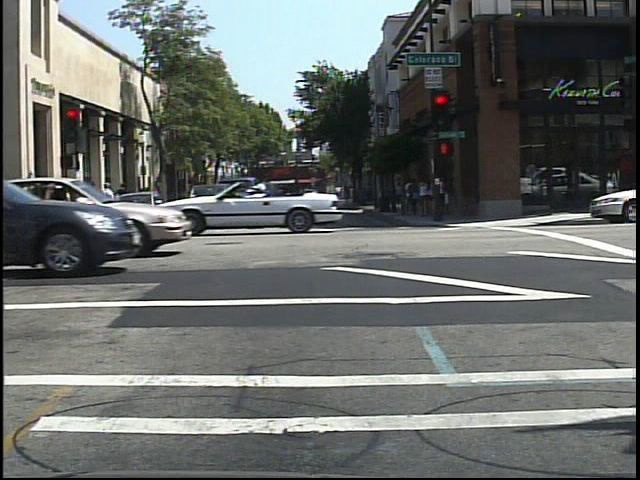person: (99, 179, 117, 225)
